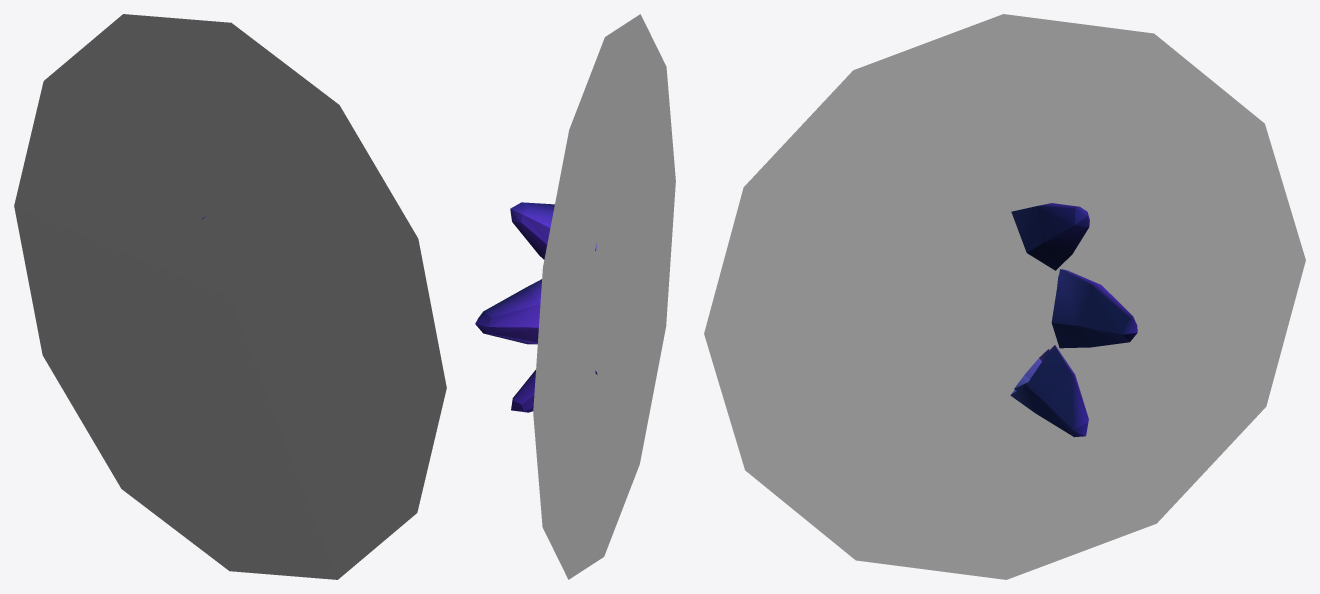
The model's file is pref_fx_Absol_spell01B_buff01_2_lv3.fbx.
The picture shows the model from 3 angles, left to right: view 1: azimuth 30°, elevation 25°; view 2: azimuth 150°, elevation 25°; view 3: azimuth 270°, elevation 25°; orthographic projection. The views are drawn at different scales.
Parts seen in each view (by area): view 1: glow_01; view 2: glow_01, 0359_nail_01_zx_B; view 3: glow_01, 0359_nail_01_zx_B.
Boxes of the visible parts, x1,y1,x2,y2 form: glow_01: [14, 14, 446, 579]; glow_01: [533, 14, 675, 579]; 0359_nail_01_zx_B: [475, 202, 597, 412]; glow_01: [704, 14, 1305, 579]; 0359_nail_01_zx_B: [1010, 203, 1137, 437].
Size of the model in its own units: 0.1959 by 0.6996 by 0.6739.
